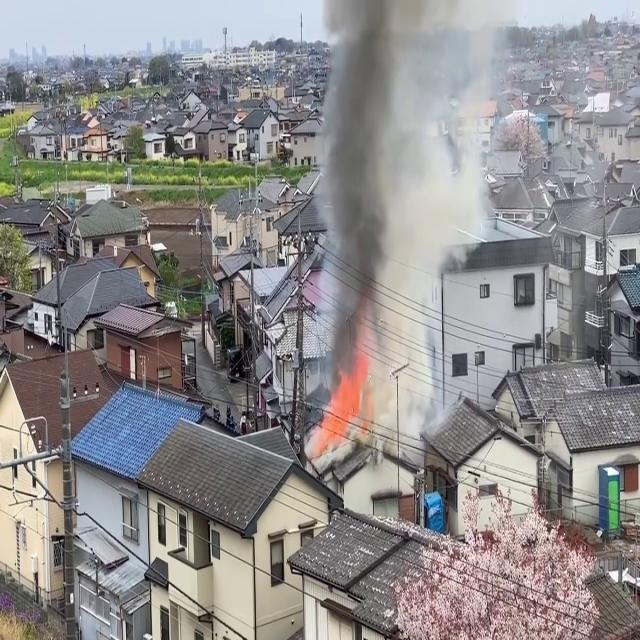Fire: (308, 365, 369, 454)
Smoke: (309, 0, 449, 430)
